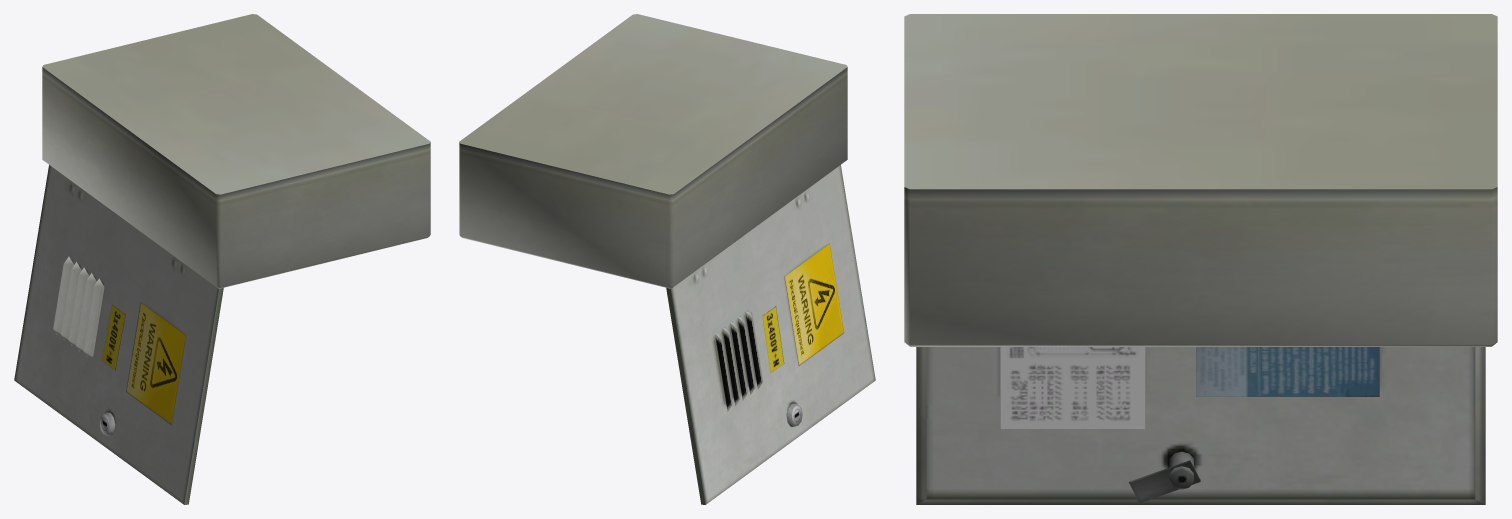
Rendered from prop_blade_breakerbox.glb.
3 renders of one model, left to right at view 1: azimuth 30°, elevation 25°; view 2: azimuth 150°, elevation 25°; view 3: azimuth 270°, elevation 25°, orthographic. The views are drawn at different scales.
Visible parts, largest first — view 1: g_box, g_box_door; view 2: g_box, g_box_door; view 3: g_box, g_box_door.
Part boxes in pixels (x1=…): g_box: x1=42, y1=14, x2=430, y2=288; g_box_door: x1=14, y1=165, x2=223, y2=504; g_box: x1=459, y1=14, x2=847, y2=288; g_box_door: x1=666, y1=165, x2=875, y2=504; g_box: x1=904, y1=14, x2=1497, y2=346; g_box_door: x1=916, y1=347, x2=1485, y2=504.
Bounding box in the file's own units: 0.4018 × 0.476 × 0.5.
Materials: 2 (2 with a texture image).
